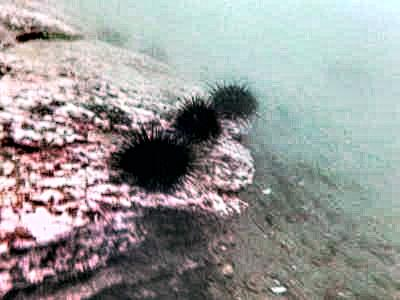urchin: (123, 132, 186, 190), (175, 99, 216, 145), (208, 85, 255, 117)
